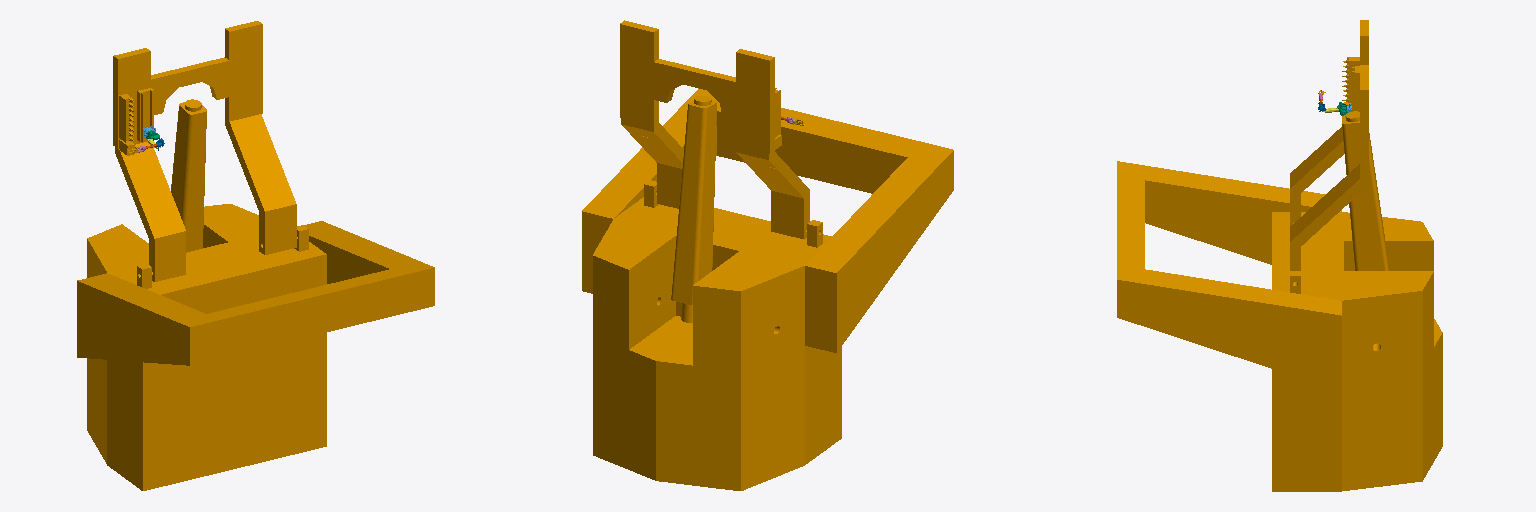
robot.urdf — cutter_tooth_station:
<?xml version="1.0"?>
<!-- Cutter-tooth assembly station from 吴迪 624 URDF: rail + ER155-3200 + gripper + table/cutter fixtures.
     绞刀 visual 已换成墨斗工程 DoubleRowAssembly 中的「铰刀4+5并排」（与 铰刀4+5并排.STEP 同一模型、同一工位 CAD 位姿）。旧网格见 meshes/part_004_1.stl.bak。
     Mesh units are mm (scale 0.001). -->
<robot name="cutter_tooth_station">
  <link name="base_link">
    <inertial>
      <origin xyz="-0.00252493 -6.30807687 -5.58070574" rpy="0 0 0"/>
      <mass value="3353592.99065223"/>
      <inertia ixx="415168602.0568186" ixy="45492.09594998" ixz="89957.81409392" iyy="376655434.4616063" iyz="-487517.41394566" izz="261595979.28944415"/>
    </inertial>
    <visual name="part_002_visual_1">
      <origin xyz="0 0 0" rpy="1.57079633 0 0"/>
      <geometry><mesh filename="meshes/part_002_part.stl" scale="0.001 0.001 0.001"/></geometry>
    </visual>
    <collision name="part_002_collision_1">
      <origin xyz="0 0 0" rpy="1.57079633 0 0"/>
      <geometry><mesh filename="meshes/part_002_part.stl" scale="0.001 0.001 0.001"/></geometry>
    </collision>
    <visual name="part_020_visual_2">
      <origin xyz="0 0 0" rpy="1.57079633 0 0"/>
      <geometry><mesh filename="meshes/part_020_1.stl" scale="0.001 0.001 0.001"/></geometry>
    </visual>
    <collision name="part_020_collision_2">
      <origin xyz="0 0 0" rpy="1.57079633 0 0"/>
      <geometry><mesh filename="meshes/part_020_1.stl" scale="0.001 0.001 0.001"/></geometry>
    </collision>
    <visual name="part_021_visual_3">
      <origin xyz="0 0 0" rpy="1.57079633 0 0"/>
      <geometry><mesh filename="meshes/part_021_1.stl" scale="0.001 0.001 0.001"/></geometry>
    </visual>
    <collision name="part_021_collision_3">
      <origin xyz="0 0 0" rpy="1.57079633 0 0"/>
      <geometry><mesh filename="meshes/part_021_1.stl" scale="0.001 0.001 0.001"/></geometry>
    </collision>
    <visual name="part_022_visual_4">
      <origin xyz="0 0 0" rpy="1.57079633 0 0"/>
      <geometry><mesh filename="meshes/part_022_1.stl" scale="0.001 0.001 0.001"/></geometry>
    </visual>
    <collision name="part_022_collision_4">
      <origin xyz="0 0 0" rpy="1.57079633 0 0"/>
      <geometry><mesh filename="meshes/part_022_1.stl" scale="0.001 0.001 0.001"/></geometry>
    </collision>
    <visual name="part_023_visual_5">
      <origin xyz="0 0 0" rpy="1.57079633 0 0"/>
      <geometry><mesh filename="meshes/part_023_1.stl" scale="0.001 0.001 0.001"/></geometry>
    </visual>
    <collision name="part_023_collision_5">
      <origin xyz="0 0 0" rpy="1.57079633 0 0"/>
      <geometry><mesh filename="meshes/part_023_1.stl" scale="0.001 0.001 0.001"/></geometry>
    </collision>
    <visual name="part_024_visual_6">
      <origin xyz="0 0 0" rpy="1.57079633 0 0"/>
      <geometry><mesh filename="meshes/part_024_1.stl" scale="0.001 0.001 0.001"/></geometry>
    </visual>
    <collision name="part_024_collision_6">
      <origin xyz="0 0 0" rpy="1.57079633 0 0"/>
      <geometry><mesh filename="meshes/part_024_1.stl" scale="0.001 0.001 0.001"/></geometry>
    </collision>
    <visual name="part_025_visual_7">
      <origin xyz="0 0 0" rpy="1.57079633 0 0"/>
      <geometry><mesh filename="meshes/part_025_1.stl" scale="0.001 0.001 0.001"/></geometry>
    </visual>
    <collision name="part_025_collision_7">
      <origin xyz="0 0 0" rpy="1.57079633 0 0"/>
      <geometry><mesh filename="meshes/part_025_1.stl" scale="0.001 0.001 0.001"/></geometry>
    </collision>
    <visual name="part_026_visual_8">
      <origin xyz="0 0 0" rpy="1.57079633 0 0"/>
      <geometry><mesh filename="meshes/part_026_1.stl" scale="0.001 0.001 0.001"/></geometry>
    </visual>
    <collision name="part_026_collision_8">
      <origin xyz="0 0 0" rpy="1.57079633 0 0"/>
      <geometry><mesh filename="meshes/part_026_1.stl" scale="0.001 0.001 0.001"/></geometry>
    </collision>
    <visual name="part_027_visual_9">
      <origin xyz="0 0 0" rpy="1.57079633 0 0"/>
      <geometry><mesh filename="meshes/part_027_1.stl" scale="0.001 0.001 0.001"/></geometry>
    </visual>
    <collision name="part_027_collision_9">
      <origin xyz="0 0 0" rpy="1.57079633 0 0"/>
      <geometry><mesh filename="meshes/part_027_1.stl" scale="0.001 0.001 0.001"/></geometry>
    </collision>
    <visual name="part_028_visual_10">
      <origin xyz="0 0 0" rpy="1.57079633 0 0"/>
      <geometry><mesh filename="meshes/part_028_1.stl" scale="0.001 0.001 0.001"/></geometry>
    </visual>
    <collision name="part_028_collision_10">
      <origin xyz="0 0 0" rpy="1.57079633 0 0"/>
      <geometry><mesh filename="meshes/part_028_1.stl" scale="0.001 0.001 0.001"/></geometry>
    </collision>
    <visual name="part_004_visual_11">
      <origin xyz="0 0 0" rpy="1.57079633 0 0"/>
      <geometry><mesh filename="meshes/part_004_cutter_4plus5.stl" scale="0.001 0.001 0.001"/></geometry>
    </visual>
    <collision name="part_004_collision_11">
      <origin xyz="0 0 0" rpy="1.57079633 0 0"/>
      <geometry><mesh filename="meshes/part_004_cutter_4plus5.stl" scale="0.001 0.001 0.001"/></geometry>
    </collision>
    <visual name="part_001_visual_12">
      <origin xyz="0 0 0" rpy="1.57079633 0 0"/>
      <geometry><mesh filename="meshes/part_001_part.stl" scale="0.001 0.001 0.001"/></geometry>
    </visual>
    <collision name="part_001_collision_12">
      <origin xyz="0 0 0" rpy="1.57079633 0 0"/>
      <geometry><mesh filename="meshes/part_001_part.stl" scale="0.001 0.001 0.001"/></geometry>
    </collision>
  </link>
  <link name="link_002">
    <inertial>
      <origin xyz="0.39052486 0.6226813 -0.05999996" rpy="0 0 0"/>
      <mass value="144.09448195"/>
      <inertia ixx="8.77626671" ixy="0.27368241" ixz="-1.7e-7" iyy="16.49767536" iyz="4.1e-7" izz="12.06150946"/>
    </inertial>
    <visual name="part_003_visual_1">
      <origin xyz="4.089 2.005 -3.89559784" rpy="1.57079633 0 0"/>
      <geometry><mesh filename="meshes/part_003_part.stl" scale="0.001 0.001 0.001"/></geometry>
    </visual>
    <collision name="part_003_collision_1">
      <origin xyz="4.089 2.005 -3.89559784" rpy="1.57079633 0 0"/>
      <geometry><mesh filename="meshes/part_003_part.stl" scale="0.001 0.001 0.001"/></geometry>
    </collision>
    <visual name="part_013_visual_2">
      <origin xyz="4.089 2.005 -3.89559784" rpy="1.57079633 0 0"/>
      <geometry><mesh filename="meshes/part_013_ER155-3200___________-2016_V1.1-4.stl" scale="0.001 0.001 0.001"/></geometry>
    </visual>
    <collision name="part_013_collision_2">
      <origin xyz="4.089 2.005 -3.89559784" rpy="1.57079633 0 0"/>
      <geometry><mesh filename="meshes/part_013_ER155-3200___________-2016_V1.1-4.stl" scale="0.001 0.001 0.001"/></geometry>
    </collision>
  </link>
  <link name="link_003">
    <inertial>
      <origin xyz="0.0729338 -0.66207198 -0.10297474" rpy="0 0 0"/>
      <mass value="142.70702714"/>
      <inertia ixx="10.79073639" ixy="-0.12360249" ixz="1.72510642" iyy="17.50134091" iyz="0.0640146" izz="15.43578006"/>
    </inertial>
    <visual name="part_005_visual_1">
      <origin xyz="3.769 1.22 -3.83559784" rpy="1.57079633 0 0"/>
      <geometry><mesh filename="meshes/part_005_ER155-3200___________-2016_V1.1.stl" scale="0.001 0.001 0.001"/></geometry>
    </visual>
    <collision name="part_005_collision_1">
      <origin xyz="3.769 1.22 -3.83559784" rpy="1.57079633 0 0"/>
      <geometry><mesh filename="meshes/part_005_ER155-3200___________-2016_V1.1.stl" scale="0.001 0.001 0.001"/></geometry>
    </collision>
    <visual name="part_011_visual_2">
      <origin xyz="3.769 1.22 -3.83559784" rpy="1.57079633 0 0"/>
      <geometry><mesh filename="meshes/part_011_ER155-3200___________-2016_V1.1-3.stl" scale="0.001 0.001 0.001"/></geometry>
    </visual>
    <collision name="part_011_collision_2">
      <origin xyz="3.769 1.22 -3.83559784" rpy="1.57079633 0 0"/>
      <geometry><mesh filename="meshes/part_011_ER155-3200___________-2016_V1.1-3.stl" scale="0.001 0.001 0.001"/></geometry>
    </collision>
    <visual name="part_006_visual_3">
      <origin xyz="3.769 1.22 -3.83559784" rpy="1.57079633 0 0"/>
      <geometry><mesh filename="meshes/part_006_ER155-3200___________-2016_V1.1.stl" scale="0.001 0.001 0.001"/></geometry>
    </visual>
    <collision name="part_006_collision_3">
      <origin xyz="3.769 1.22 -3.83559784" rpy="1.57079633 0 0"/>
      <geometry><mesh filename="meshes/part_006_ER155-3200___________-2016_V1.1.stl" scale="0.001 0.001 0.001"/></geometry>
    </collision>
  </link>
  <link name="link_004">
    <inertial>
      <origin xyz="0.00293832 -0.58111148 -0.31730564" rpy="0 0 0"/>
      <mass value="94.53922706"/>
      <inertia ixx="19.66471587" ixy="-0.00106654" ixz="-0.00554402" iyy="3.0151588" iyz="-0.00237091" izz="20.65903601"/>
    </inertial>
    <visual name="part_007_visual_1">
      <origin xyz="4.089 2.005 -3.89559784" rpy="1.57079633 0 0"/>
      <geometry><mesh filename="meshes/part_007_ER155-3200___________-2016_V1.1.stl" scale="0.001 0.001 0.001"/></geometry>
    </visual>
    <collision name="part_007_collision_1">
      <origin xyz="4.089 2.005 -3.89559784" rpy="1.57079633 0 0"/>
      <geometry><mesh filename="meshes/part_007_ER155-3200___________-2016_V1.1.stl" scale="0.001 0.001 0.001"/></geometry>
    </collision>
    <visual name="part_016_visual_2">
      <origin xyz="4.089 2.005 -3.89559784" rpy="1.57079633 0 0"/>
      <geometry><mesh filename="meshes/part_016_2_ER155-3200___________-2016_V1.1.stl" scale="0.001 0.001 0.001"/></geometry>
    </visual>
    <collision name="part_016_collision_2">
      <origin xyz="4.089 2.005 -3.89559784" rpy="1.57079633 0 0"/>
      <geometry><mesh filename="meshes/part_016_2_ER155-3200___________-2016_V1.1.stl" scale="0.001 0.001 0.001"/></geometry>
    </collision>
  </link>
  <link name="link_006">
    <inertial>
      <origin xyz="0.0431544 -0.11078178 0.36087238" rpy="0 0 0"/>
      <mass value="91.10779185"/>
      <inertia ixx="6.10356659" ixy="-0.00079235" ixz="-0.0008296" iyy="6.9764499" iyz="-0.01763303" izz="5.77780475"/>
    </inertial>
    <visual name="part_012_visual_1">
      <origin xyz="4.089 3.195 -3.53309784" rpy="1.57079633 0 0"/>
      <geometry><mesh filename="meshes/part_012_ER155-3200___________-2016_V1.1.stl" scale="0.001 0.001 0.001"/></geometry>
    </visual>
    <collision name="part_012_collision_1">
      <origin xyz="4.089 3.195 -3.53309784" rpy="1.57079633 0 0"/>
      <geometry><mesh filename="meshes/part_012_ER155-3200___________-2016_V1.1.stl" scale="0.001 0.001 0.001"/></geometry>
    </collision>
    <visual name="part_017_visual_2">
      <origin xyz="4.089 3.195 -3.53309784" rpy="1.57079633 0 0"/>
      <geometry><mesh filename="meshes/part_017_3_ER155-3200___________-2016_V1.1.stl" scale="0.001 0.001 0.001"/></geometry>
    </visual>
    <collision name="part_017_collision_2">
      <origin xyz="4.089 3.195 -3.53309784" rpy="1.57079633 0 0"/>
      <geometry><mesh filename="meshes/part_017_3_ER155-3200___________-2016_V1.1.stl" scale="0.001 0.001 0.001"/></geometry>
    </collision>
  </link>
  <link name="link_007">
    <inertial>
      <origin xyz="-0.432 0 6e-8" rpy="0 0 0"/>
      <mass value="30.90856883"/>
      <inertia ixx="0.2820716" ixy="0" ixz="0" iyy="2.06379605" iyz="0" izz="2.06379605"/>
    </inertial>
    <visual name="part_014_visual_1">
      <origin xyz="4.377 3.395 -3.83559784" rpy="1.57079633 0 0"/>
      <geometry><mesh filename="meshes/part_014_ER155-3200___________-2016_V1.1-5.stl" scale="0.001 0.001 0.001"/></geometry>
    </visual>
    <collision name="part_014_collision_1">
      <origin xyz="4.377 3.395 -3.83559784" rpy="1.57079633 0 0"/>
      <geometry><mesh filename="meshes/part_014_ER155-3200___________-2016_V1.1-5.stl" scale="0.001 0.001 0.001"/></geometry>
    </collision>
  </link>
  <link name="link_008">
    <inertial>
      <origin xyz="-0.3357959 9.8e-7 -0.01449799" rpy="0 0 0"/>
      <mass value="46.3627606"/>
      <inertia ixx="0.950265" ixy="0" ixz="0" iyy="2.37631316" iyz="0" izz="2.05916064"/>
    </inertial>
    <visual name="part_009_visual_1">
      <origin xyz="5.241 3.395 -3.83559784" rpy="1.57079633 0 0"/>
      <geometry><mesh filename="meshes/part_009_ER155-3200___________-2016_V1.1-1.stl" scale="0.001 0.001 0.001"/></geometry>
    </visual>
    <collision name="part_009_collision_1">
      <origin xyz="5.241 3.395 -3.83559784" rpy="1.57079633 0 0"/>
      <geometry><mesh filename="meshes/part_009_ER155-3200___________-2016_V1.1-1.stl" scale="0.001 0.001 0.001"/></geometry>
    </collision>
  </link>
  <link name="link_009">
    <inertial>
      <origin xyz="-0.00441382 -0.00000439 -0.10299994" rpy="0 0 0"/>
      <mass value="13.5802016"/>
      <inertia ixx="0.09219271" ixy="0" ixz="0" iyy="0.15997722" iyz="0" izz="0.14948324"/>
    </inertial>
    <visual name="part_010_visual_1">
      <origin xyz="5.769 3.395 -3.94459784" rpy="1.57079633 0 0"/>
      <geometry><mesh filename="meshes/part_010_ER155-3200___________-2016_V1.1-2.stl" scale="0.001 0.001 0.001"/></geometry>
    </visual>
    <collision name="part_010_collision_1">
      <origin xyz="5.769 3.395 -3.94459784" rpy="1.57079633 0 0"/>
      <geometry><mesh filename="meshes/part_010_ER155-3200___________-2016_V1.1-2.stl" scale="0.001 0.001 0.001"/></geometry>
    </collision>
  </link>
  <link name="link_010">
    <inertial>
      <origin xyz="-0.36377874 0.04179866 7e-8" rpy="0 0 0"/>
      <mass value="15.79079693"/>
      <inertia ixx="0.54338034" ixy="0.01356809" ixz="1e-8" iyy="0.95376184" iyz="1e-8" izz="1.09756923"/>
    </inertial>
    <visual name="part_008_visual_1">
      <origin xyz="5.94098919 3.395 -3.83559784" rpy="1.57079633 0 0"/>
      <geometry><mesh filename="meshes/part_008_ER155-3200___________-2016_V1.1-0.stl" scale="0.001 0.001 0.001"/></geometry>
    </visual>
    <collision name="part_008_collision_1">
      <origin xyz="5.94098919 3.395 -3.83559784" rpy="1.57079633 0 0"/>
      <geometry><mesh filename="meshes/part_008_ER155-3200___________-2016_V1.1-0.stl" scale="0.001 0.001 0.001"/></geometry>
    </collision>
    <visual name="part_018_visual_2">
      <origin xyz="5.94098919 3.395 -3.83559784" rpy="1.57079633 0 0"/>
      <geometry><mesh filename="meshes/part_018_part.stl" scale="0.001 0.001 0.001"/></geometry>
    </visual>
    <collision name="part_018_collision_2">
      <origin xyz="5.94098919 3.395 -3.83559784" rpy="1.57079633 0 0"/>
      <geometry><mesh filename="meshes/part_018_part.stl" scale="0.001 0.001 0.001"/></geometry>
    </collision>
    <visual name="part_019_visual_3">
      <origin xyz="5.94098919 3.395 -3.83559784" rpy="1.57079633 0 0"/>
      <geometry><mesh filename="meshes/part_019_A.stl" scale="0.001 0.001 0.001"/></geometry>
    </visual>
    <collision name="part_019_collision_3">
      <origin xyz="5.94098919 3.395 -3.83559784" rpy="1.57079633 0 0"/>
      <geometry><mesh filename="meshes/part_019_A.stl" scale="0.001 0.001 0.001"/></geometry>
    </collision>
    <visual name="part_029_visual_4">
      <origin xyz="5.94098919 3.395 -3.83559784" rpy="1.57079633 0 0"/>
      <geometry><mesh filename="meshes/part_029_b.stl" scale="0.001 0.001 0.001"/></geometry>
    </visual>
    <collision name="part_029_collision_4">
      <origin xyz="5.94098919 3.395 -3.83559784" rpy="1.57079633 0 0"/>
      <geometry><mesh filename="meshes/part_029_b.stl" scale="0.001 0.001 0.001"/></geometry>
    </collision>
  </link>
  <joint name="link_002_joint" type="prismatic">
    <parent link="base_link"/>
    <child link="link_002"/>
    <origin xyz="-4.089 -2.005 3.89559784" rpy="0 0 0"/>
    <axis xyz="0 0 1"/>
    <!-- 导轨：需求 -200~2600mm，略放宽便于示教 -->
    <limit lower="-0.2" upper="2.8" effort="10" velocity="5"/>
  </joint>
  <joint name="link_003_joint" type="revolute">
    <parent link="link_002"/>
    <child link="link_003"/>
    <origin xyz="0.32 0.785 -0.06" rpy="0 0 0"/>
    <axis xyz="0 -1 0"/>
    <limit lower="-6.28318531" upper="6.28318531" effort="10" velocity="5"/>
  </joint>
  <joint name="link_004_joint" type="revolute">
    <parent link="link_003"/>
    <child link="link_004"/>
    <origin xyz="-0.32 -0.785 0.06" rpy="0 0 0"/>
    <axis xyz="0 0 1"/>
    <limit lower="-6.28318531" upper="6.28318531" effort="10" velocity="5"/>
  </joint>
  <joint name="link_007_joint" type="revolute">
    <parent link="link_006"/>
    <child link="link_007"/>
    <origin xyz="-0.288 -0.2 0.3025" rpy="0 0 0"/>
    <axis xyz="-1 0 0"/>
    <limit lower="-6.28318531" upper="6.28318531" effort="10" velocity="5"/>
  </joint>
  <joint name="link_008_joint" type="revolute">
    <parent link="link_007"/>
    <child link="link_008"/>
    <origin xyz="-0.864 0 0" rpy="0 0 0"/>
    <axis xyz="1 0 0"/>
    <limit lower="-3.14159265" upper="3.14159265" effort="10" velocity="5"/>
  </joint>
  <joint name="link_009_joint" type="revolute">
    <parent link="link_008"/>
    <child link="link_009"/>
    <origin xyz="-0.528 0 0.109" rpy="0 0 0"/>
    <axis xyz="0 0 1"/>
    <limit lower="-6.28318531" upper="6.28318531" effort="10" velocity="5"/>
  </joint>
  <joint name="link_010_joint" type="revolute">
    <parent link="link_009"/>
    <child link="link_010"/>
    <origin xyz="-0.17198919 0 -0.109" rpy="0 0 0"/>
    <axis xyz="-1 0 0"/>
    <limit lower="-6.28318531" upper="6.28318531" effort="10" velocity="5"/>
  </joint>
  <joint name="joint_6" type="revolute">
    <parent link="link_004"/>
    <child link="link_006"/>
    <origin xyz="0 -1.19 -0.3625" rpy="0 0 0"/>
    <axis xyz="0 0 1"/>
    <limit lower="-6.28318531" upper="6.28318531" effort="10" velocity="5"/>
  </joint>
</robot>

--- Facts derived from the render (not from the file) ---
Views: 3 orthographic renders of the robot side by side, from view 1: azimuth 30°, elevation 25°; view 2: azimuth 150°, elevation 25°; view 3: azimuth 270°, elevation 25°.
Model cutter_tooth_station with 9 links and 8 joints (7 revolute, 1 prismatic), rooted at base_link, posed all joints at 0.
Links seen in each view (by area): view 1: base_link; view 2: base_link; view 3: base_link.
Boxes of the visible links, left/top/right/bottom form: base_link: left=77, top=21, right=434, bottom=490; base_link: left=582, top=20, right=953, bottom=490; base_link: left=1117, top=20, right=1442, bottom=491.
Bounding box of the posed robot: 20 × 23.18 × 30.78 m (x, y, z).
27 mesh visuals loaded from 28 distinct referenced files (27 binary STL); not drawn: 1 (reference not matched to a file when rendering).
